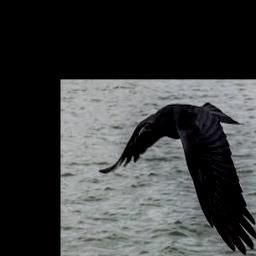Crow: (98, 100, 256, 254)
